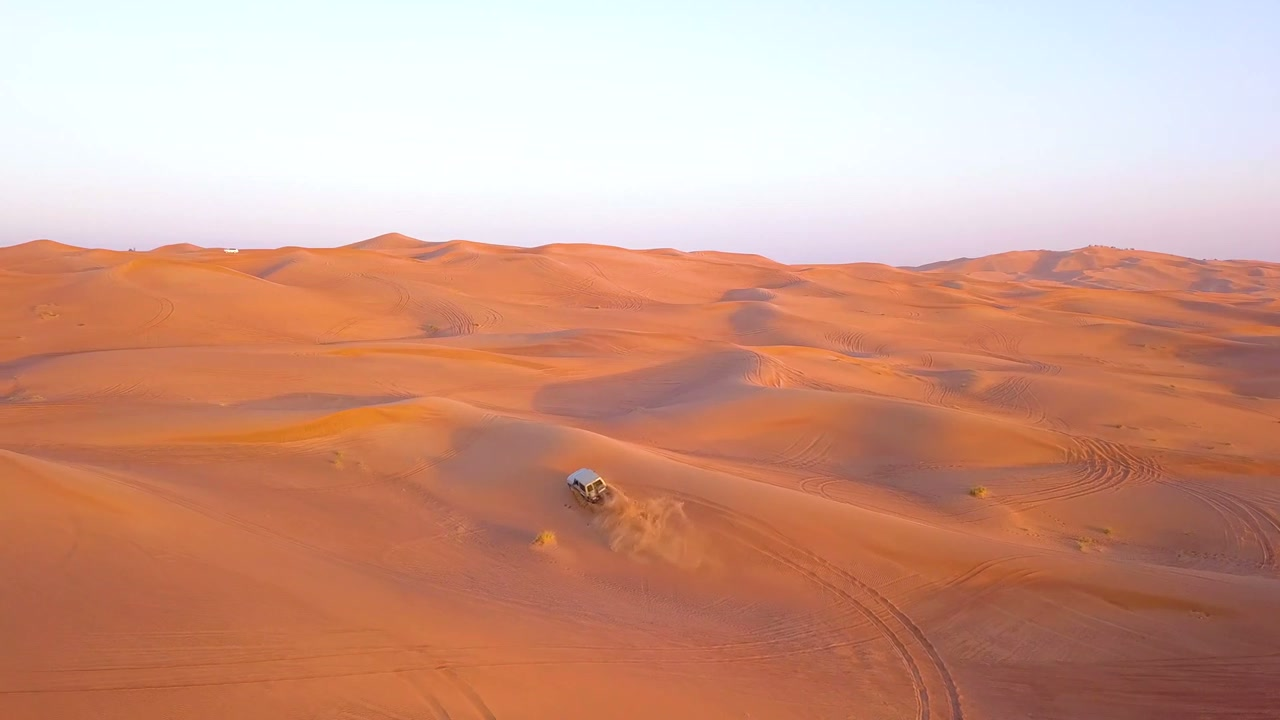vehicle_track: (672, 493, 962, 719), (998, 433, 1162, 509), (1163, 480, 1279, 568)
